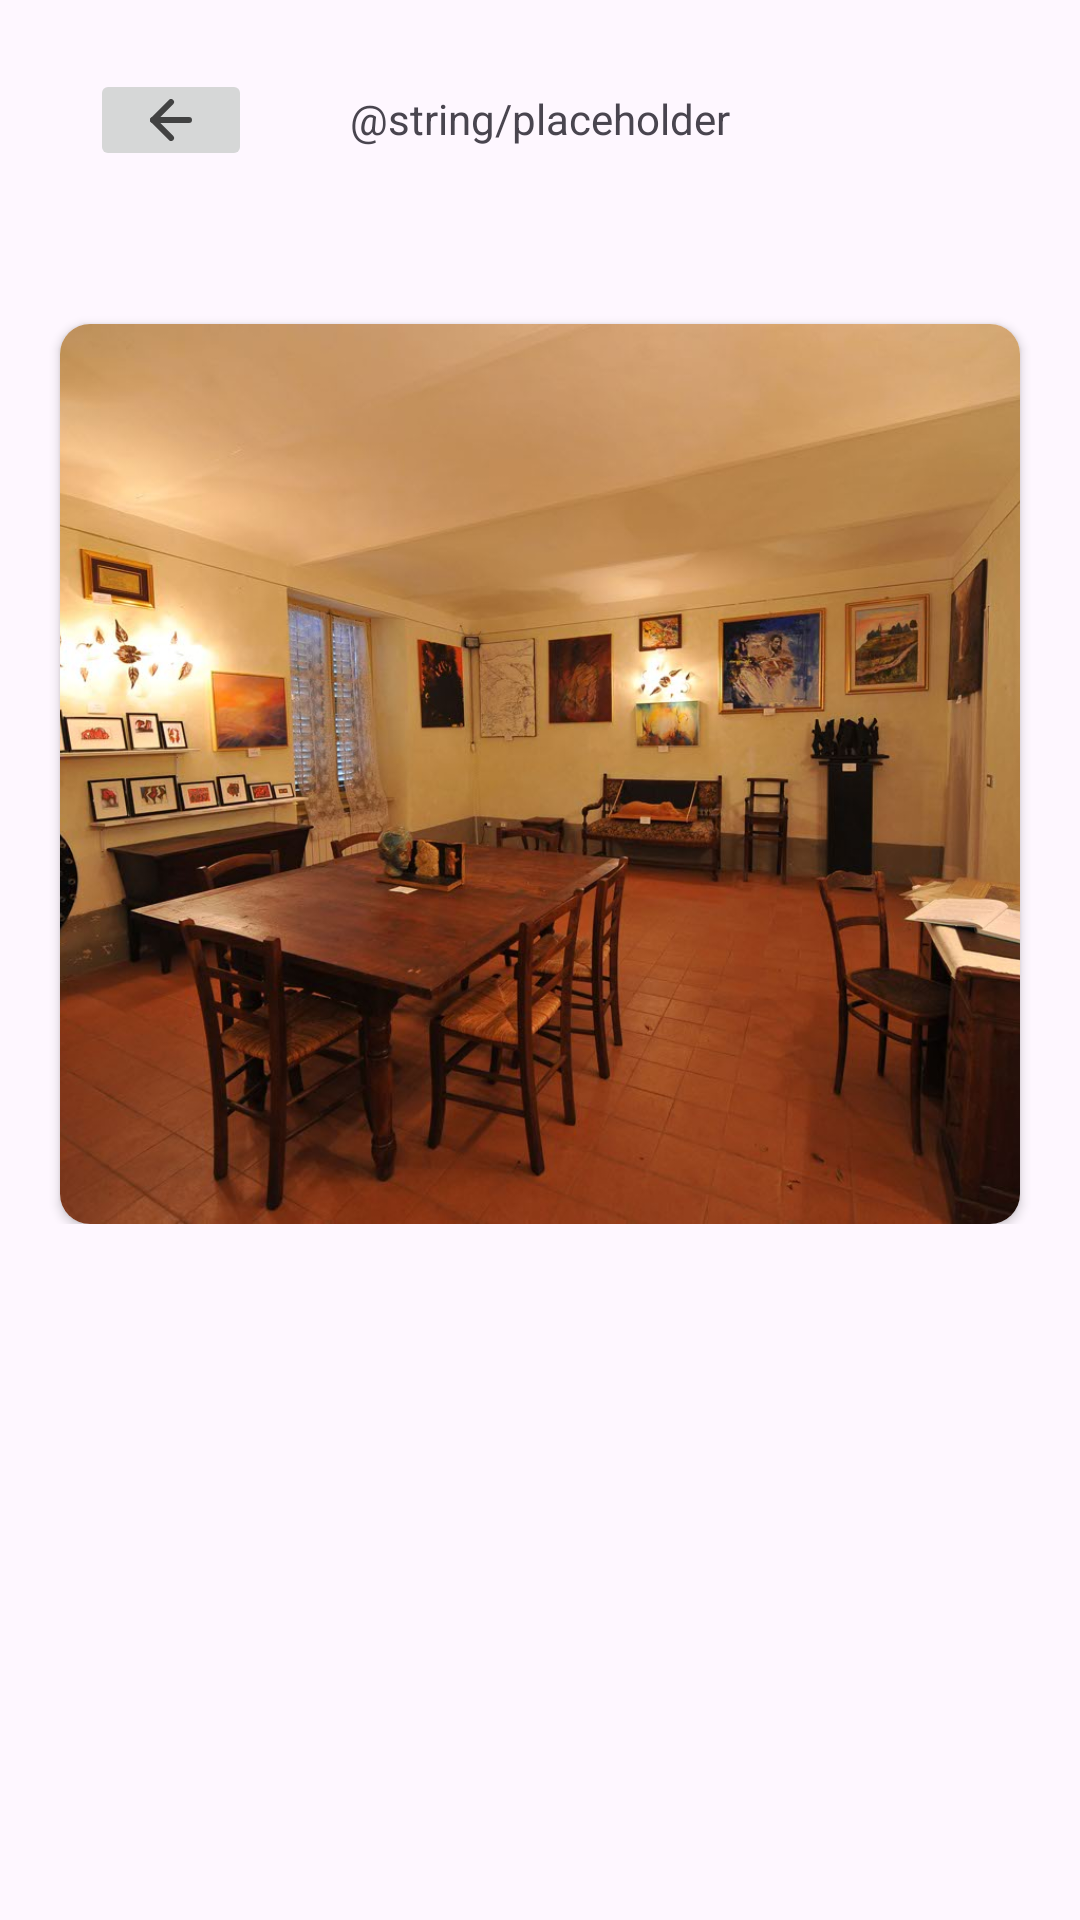

Icons on this 1080*1920 Android screen, each with the point to tap as (x=x, y=y):
back arrow: (x=171, y=120)
